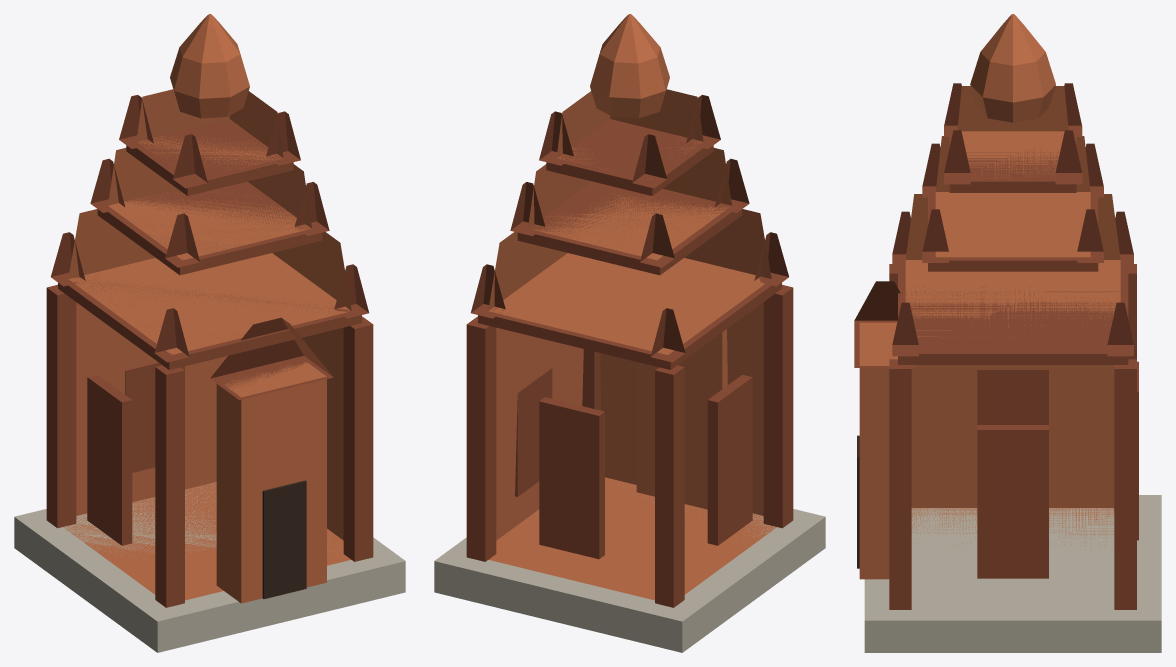
File: viet_cham_tower.glb
3 renders of one model, left to right at view 1: azimuth 30°, elevation 25°; view 2: azimuth 150°, elevation 25°; view 3: azimuth 270°, elevation 25°, orthographic. The views are drawn at different scales.
Parts seen in each view (by area): view 1: viet_cham_tower; view 2: viet_cham_tower; view 3: viet_cham_tower.
Part boxes in pixels (x1=…): viet_cham_tower: x1=14, y1=14, x2=405, y2=652; viet_cham_tower: x1=434, y1=14, x2=825, y2=652; viet_cham_tower: x1=854, y1=14, x2=1161, y2=652.
Size of the model in its own units: 0.4677 by 1 by 0.4839.
